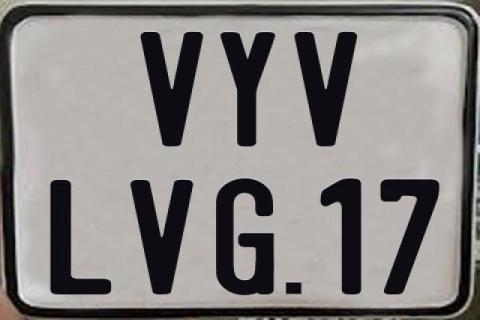0: (378, 177, 441, 297), (317, 179, 361, 295)
G: (213, 177, 271, 293)
L: (49, 179, 111, 295)
V: (128, 180, 195, 295), (293, 31, 358, 149), (139, 32, 206, 146)
Y: (217, 30, 273, 146)
